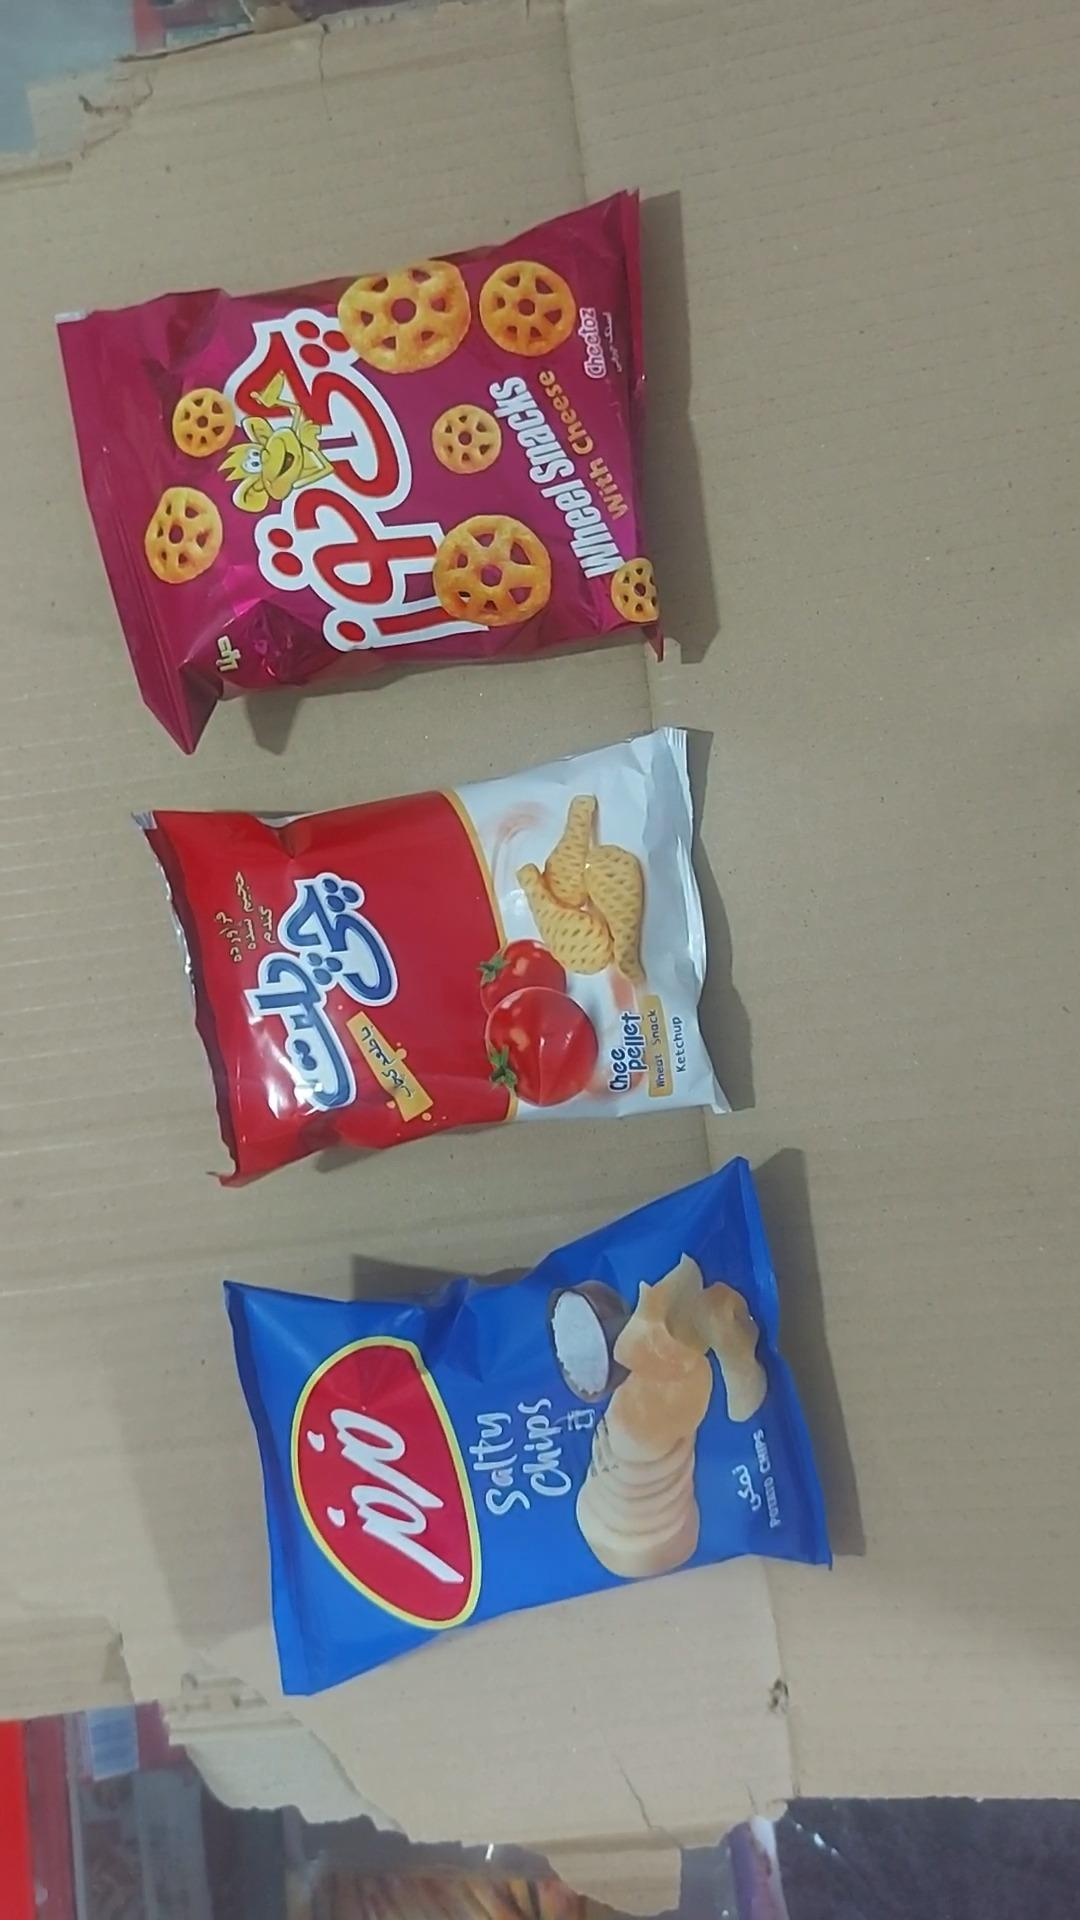Chee pellet ketchup: (132, 727, 729, 1189)
Cheetoz wheelsnack: (55, 191, 671, 757)
Maz Maz salty chips: (222, 1158, 833, 1701)
